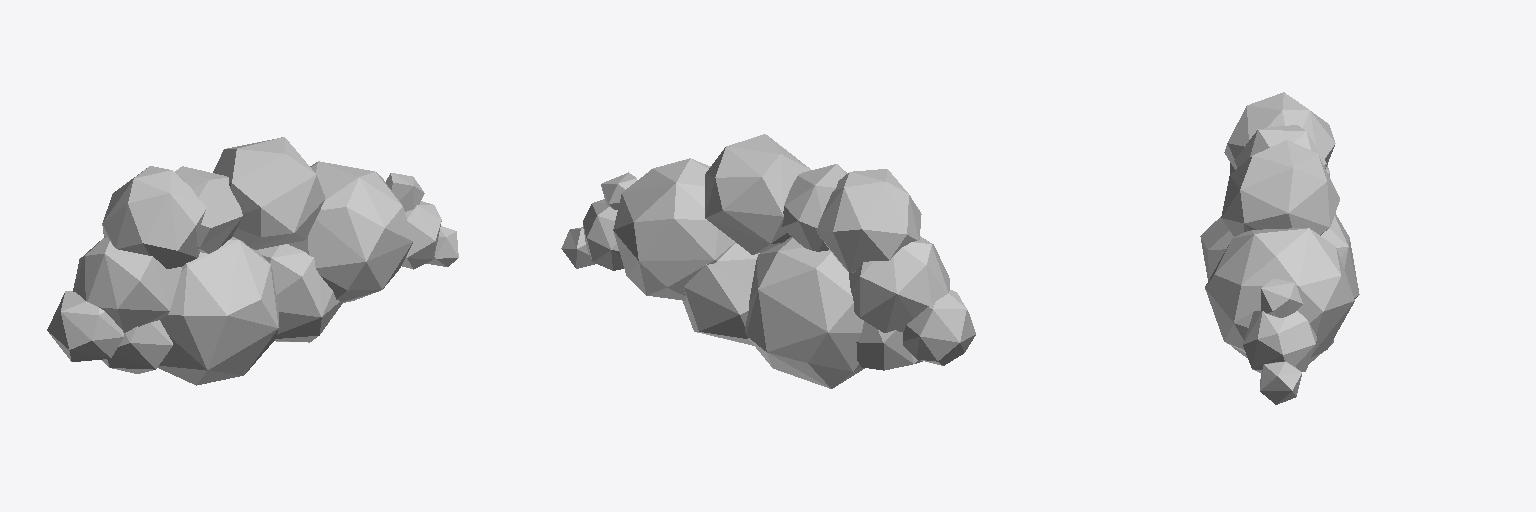
File: Cloud3.obj
3 renders of one model, left to right at view 1: azimuth 30°, elevation 25°; view 2: azimuth 150°, elevation 25°; view 3: azimuth 270°, elevation 25°, orthographic.
Parts seen in each view (by area): view 1: Icosphere.008_Icosphere.002; view 2: Icosphere.008_Icosphere.002; view 3: Icosphere.008_Icosphere.002.
Part boxes in pixels (x1,y1,x2,y2): Icosphere.008_Icosphere.002: (47,137,458,385); Icosphere.008_Icosphere.002: (561,134,975,388); Icosphere.008_Icosphere.002: (1200,92,1359,404).
Size of the model in its own units: 3.74 by 1.93 by 1.29.